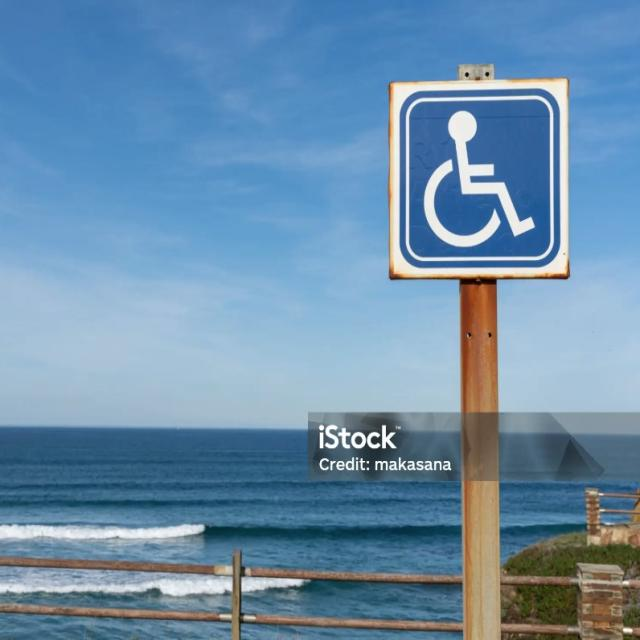symbol_of_access: (385, 73, 573, 282)
